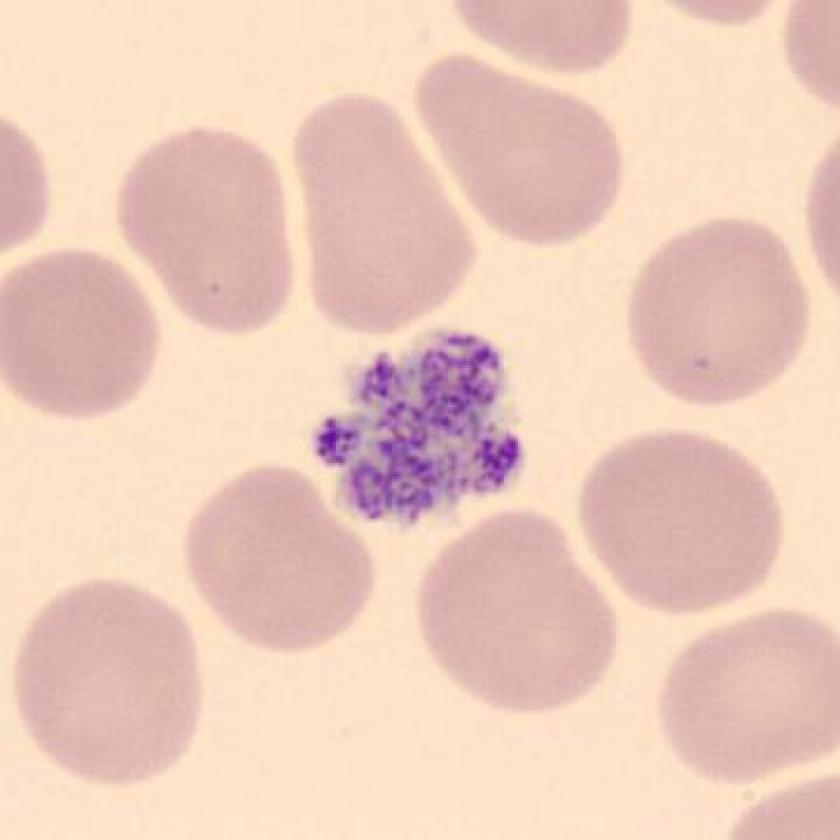platelets: (300, 316, 538, 538)
